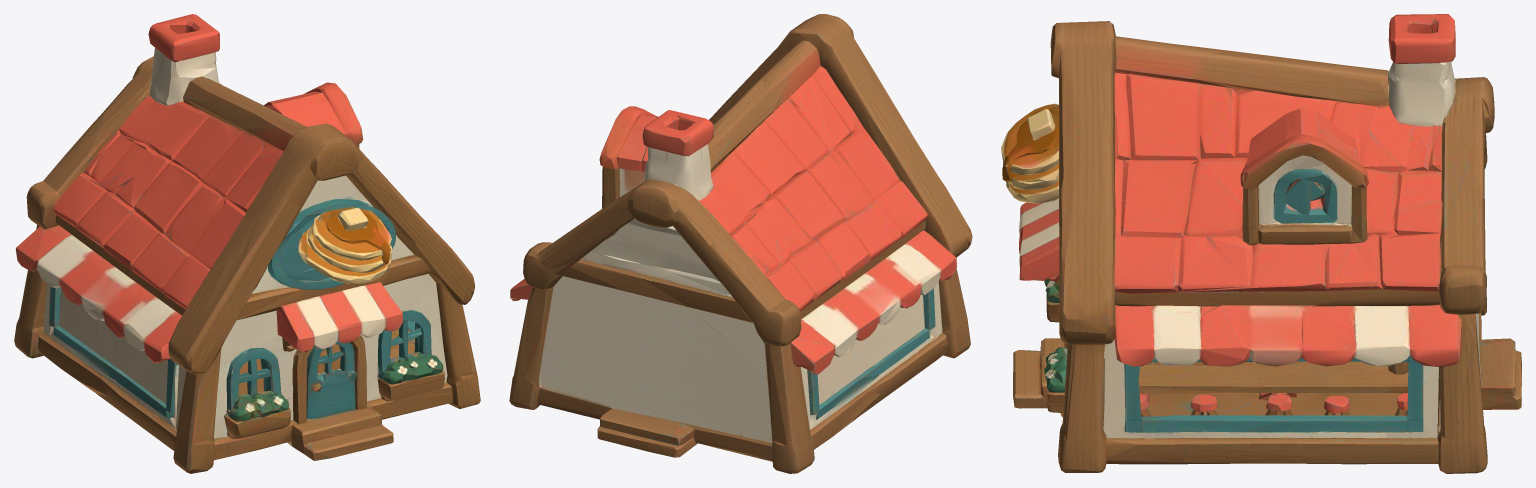
The model's file is restaurant-pancake-cafe-building-cottage-normal.glb.
3 views of the same model, side by side, from view 1: azimuth 30°, elevation 25°; view 2: azimuth 150°, elevation 25°; view 3: azimuth 270°, elevation 25° (orthographic). The views are drawn at different scales.
Parts seen in each view (by area): view 1: Mesh_0; view 2: Mesh_0; view 3: Mesh_0.
Boxes of the visible parts, x1=… form: Mesh_0: x1=14, y1=14, x2=480, y2=473; Mesh_0: x1=509, y1=14, x2=972, y2=473; Mesh_0: x1=1001, y1=14, x2=1521, y2=473.
Bounding box in the file's own units: 2.14 × 2 × 2.6.
1 material, 1 textured.
